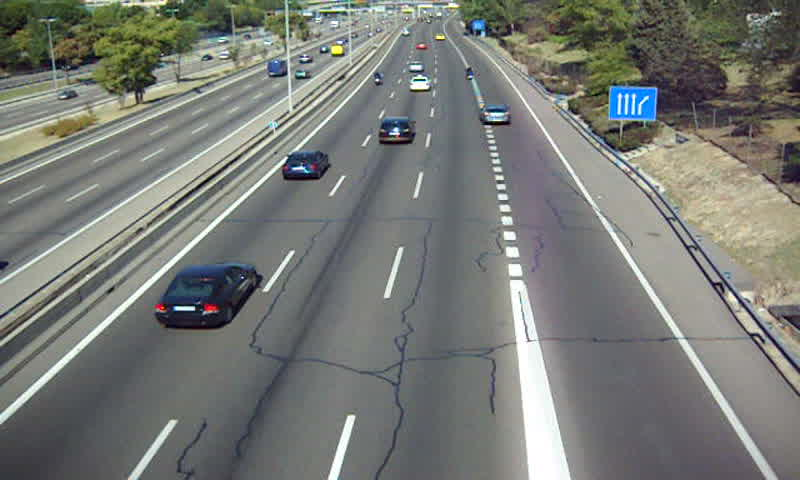car: (154, 264, 257, 327), (281, 150, 328, 178), (378, 115, 416, 145), (479, 105, 512, 127), (409, 75, 431, 93), (408, 60, 422, 72)
motorcycle: (373, 68, 382, 88), (465, 66, 476, 82)
